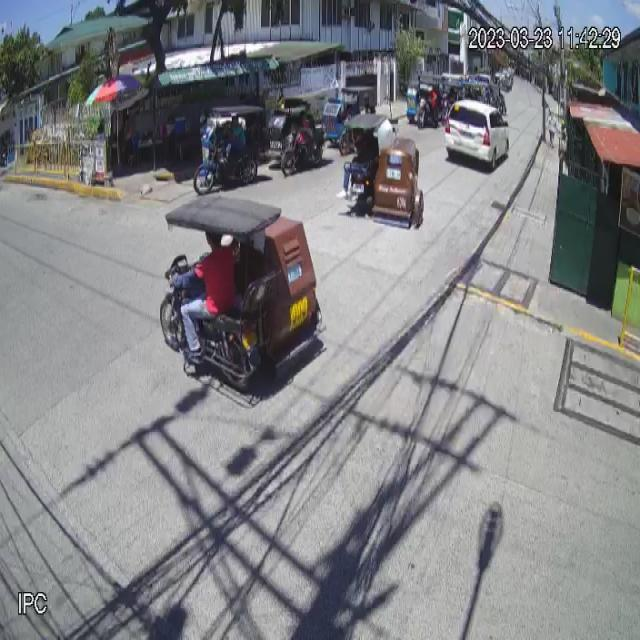Car: (444, 99, 511, 174)
Tricycle: (160, 192, 326, 392), (339, 112, 424, 230)
